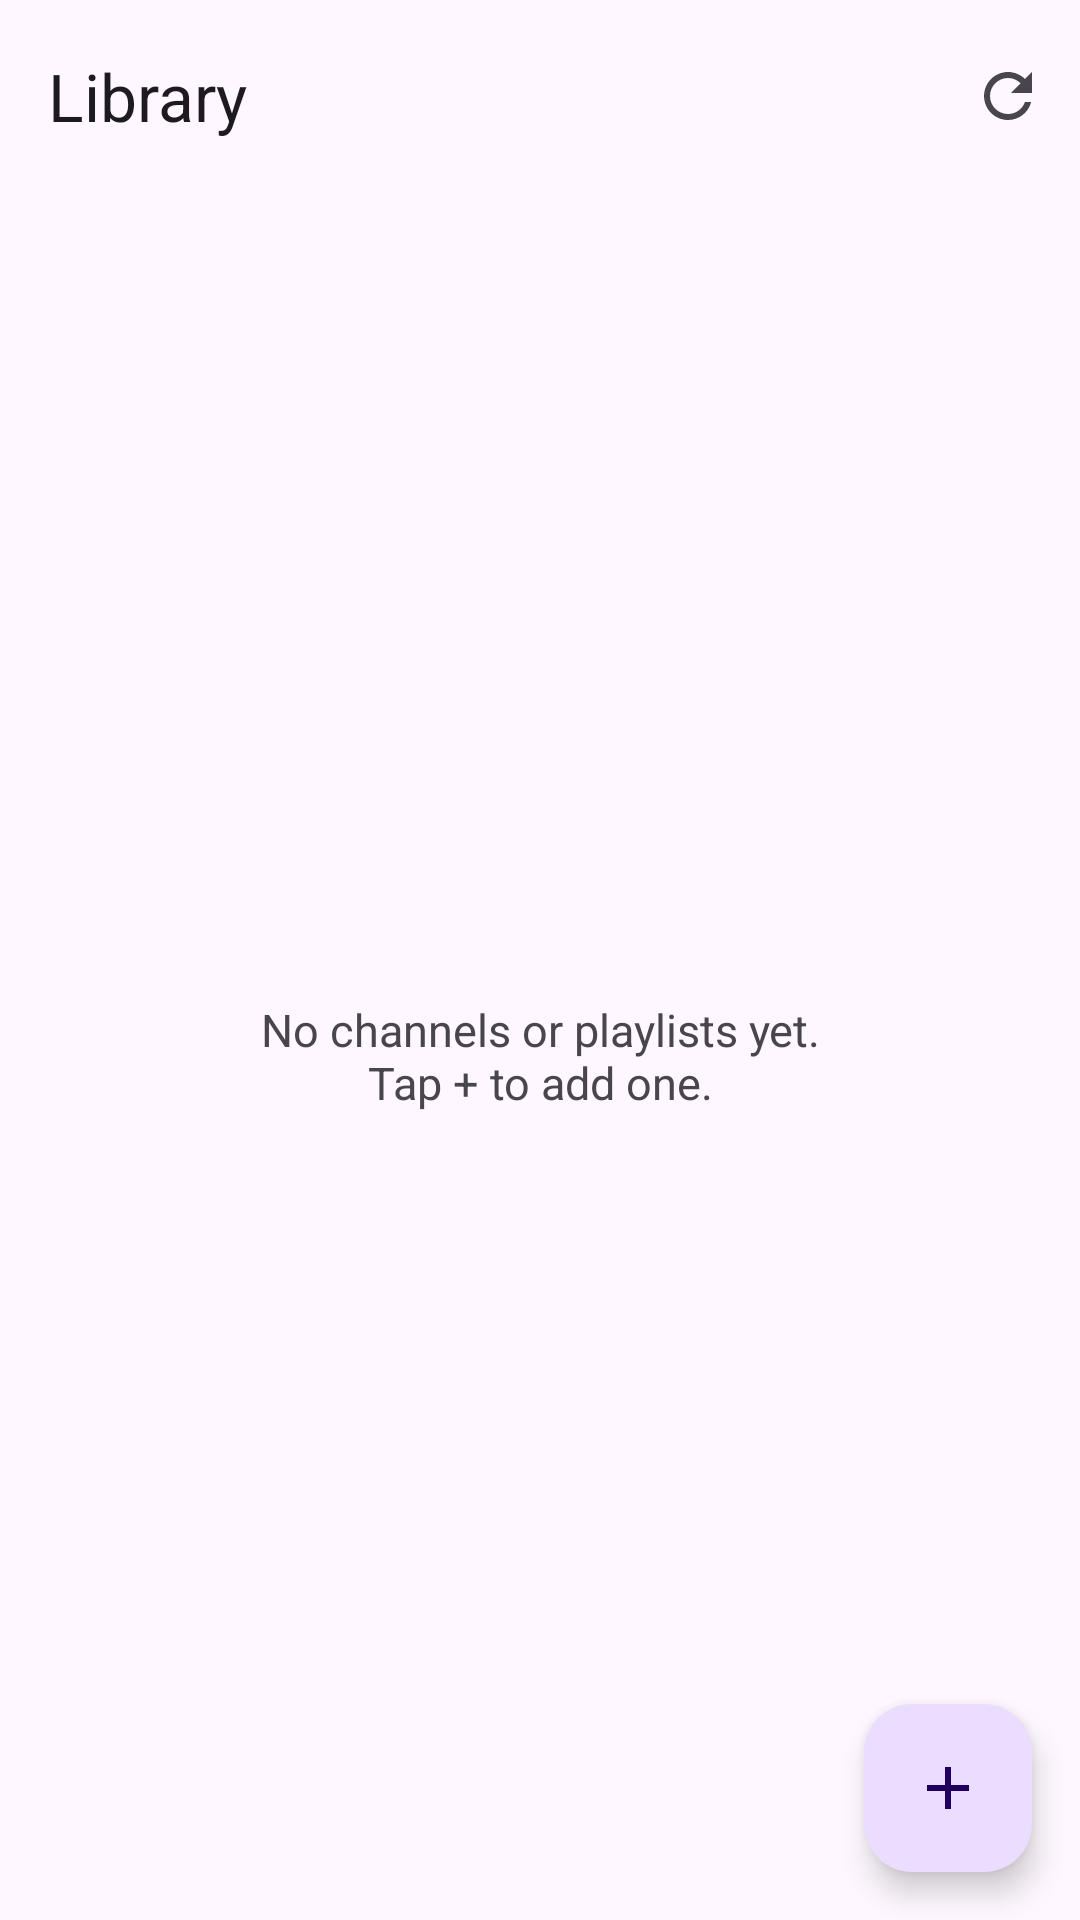

Where icons sit on this 1080 × 1920 app screen, as (x1=x1, y1=y1, x2=x2, y2=y2):
Add channel or playlist: (x1=864, y1=1704, x2=1032, y2=1872)
